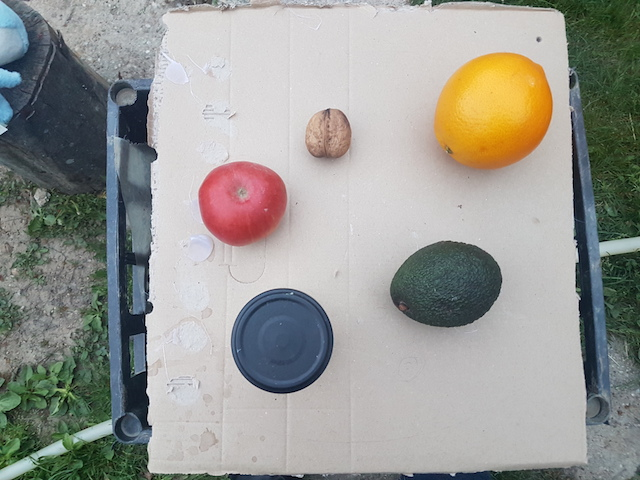apple: (191, 158, 290, 247)
avocado: (386, 233, 506, 331)
nut: (306, 101, 353, 161)
orange: (421, 47, 557, 171)
recipient: (230, 283, 337, 394)
